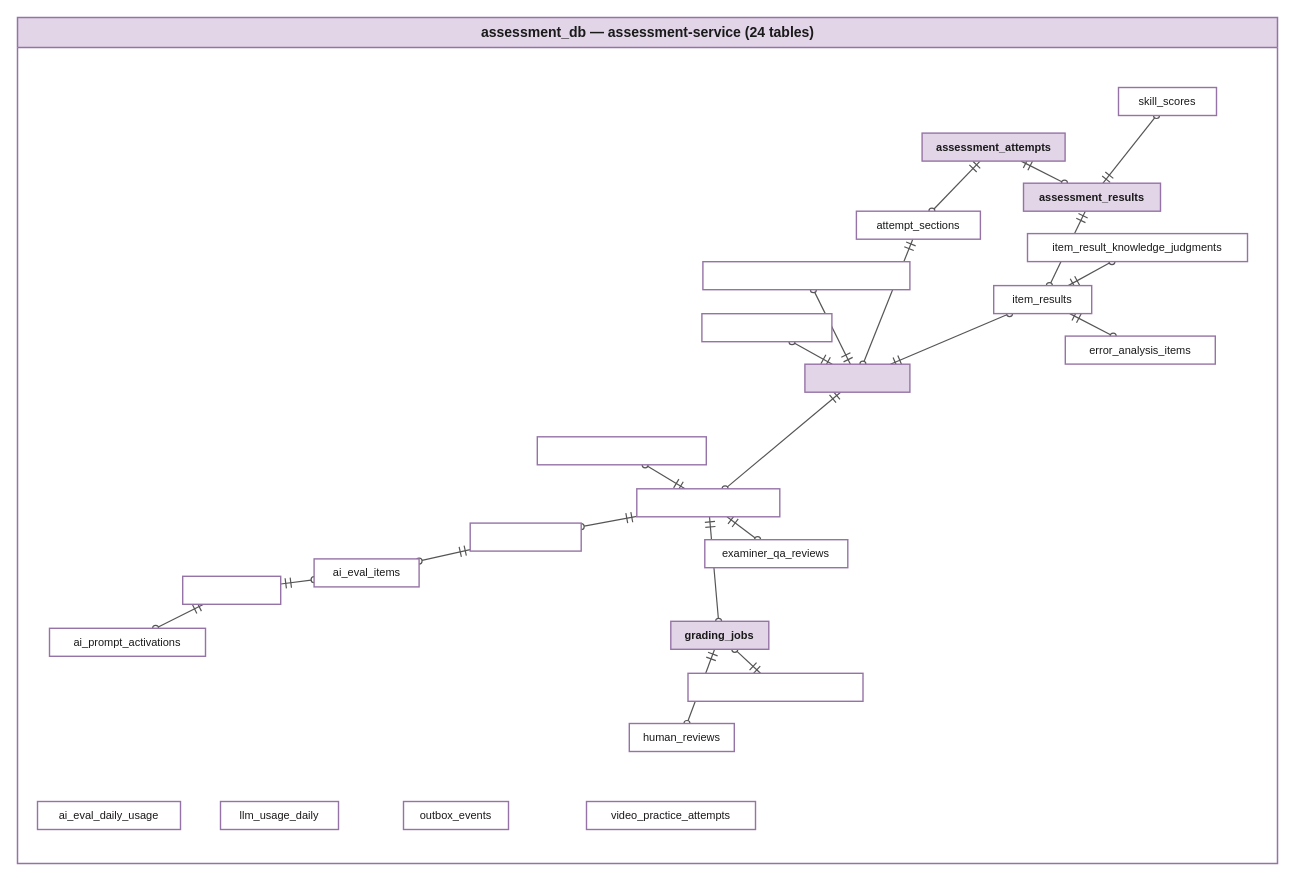
This 1296x882 diagram has some shape labels left out. Here are the shapes that lost their labels. From the top down, the centre of each, then its label:
At (806,275): "attempt_item_knowledge_points".
At (766,327): "attempt_responses".
At (857,377): "attempt_items".
At (621,450): "essay_grade_comparisons".
At (708,502): "learner_submissions".
At (525,536): "ai_gold_essays".
At (231,589): "ai_eval_runs".
At (775,687): "human_review_submissions".
